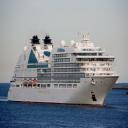cruises: (8, 33, 121, 108)
